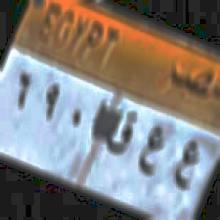0: (69, 102, 88, 138)
6: (13, 70, 34, 112)
9: (41, 77, 65, 125)
ain: (137, 121, 165, 187), (173, 134, 200, 198)
qaaf: (106, 107, 137, 158)
